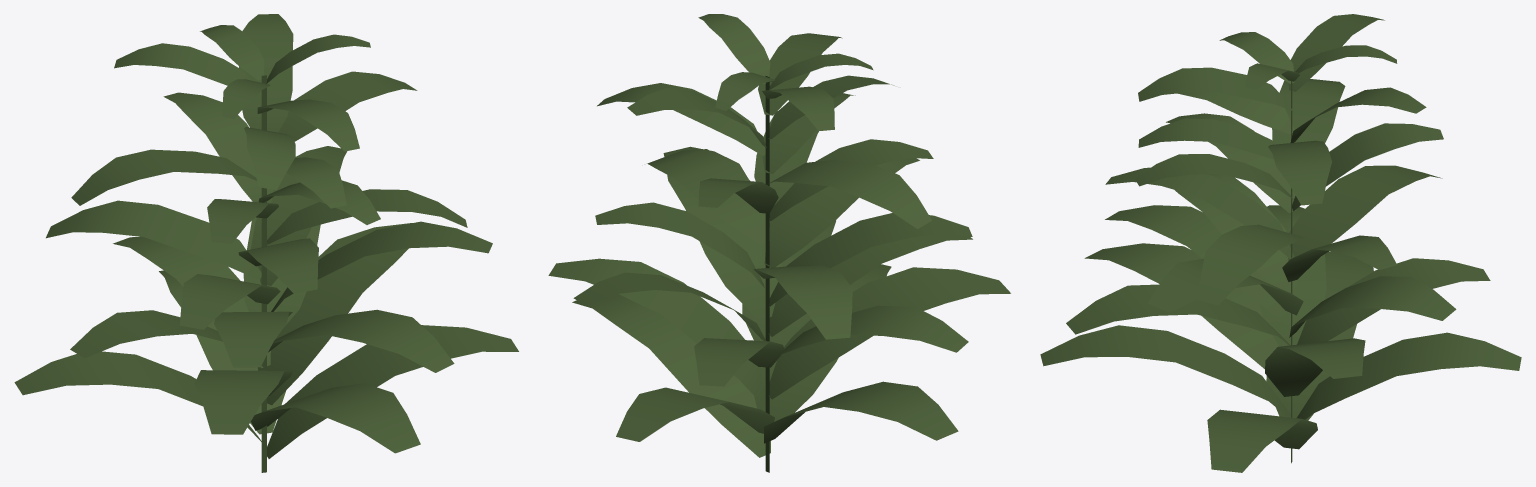
Rendered from pianta3A.fbx.
3 renders of one model, left to right at view 1: azimuth 30°, elevation 25°; view 2: azimuth 150°, elevation 25°; view 3: azimuth 270°, elevation 25°, orthographic.
Visible parts, largest first — view 1: 3A; view 2: 3A; view 3: 3A.
Part boxes in pixels (x1=…): 3A: x1=14, y1=14, x2=518, y2=472; 3A: x1=548, y1=14, x2=1010, y2=472; 3A: x1=1040, y1=14, x2=1521, y2=472.
Size of the model in its own units: 271 by 253 by 262.
